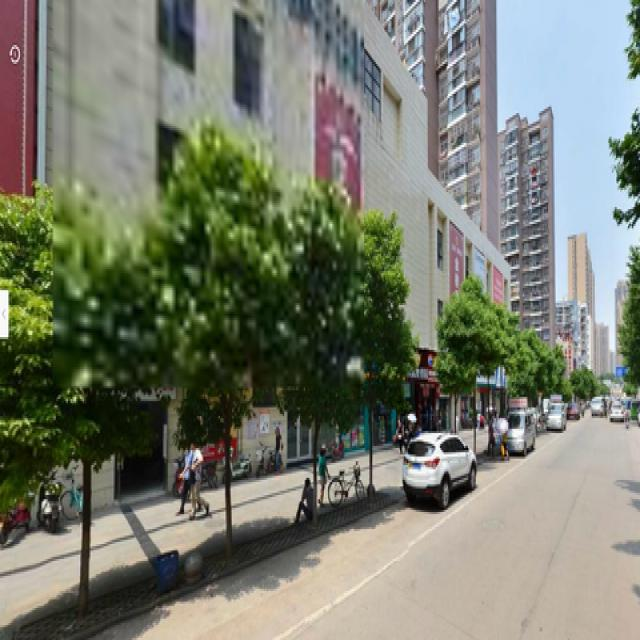cinn: (444, 288, 488, 454)
